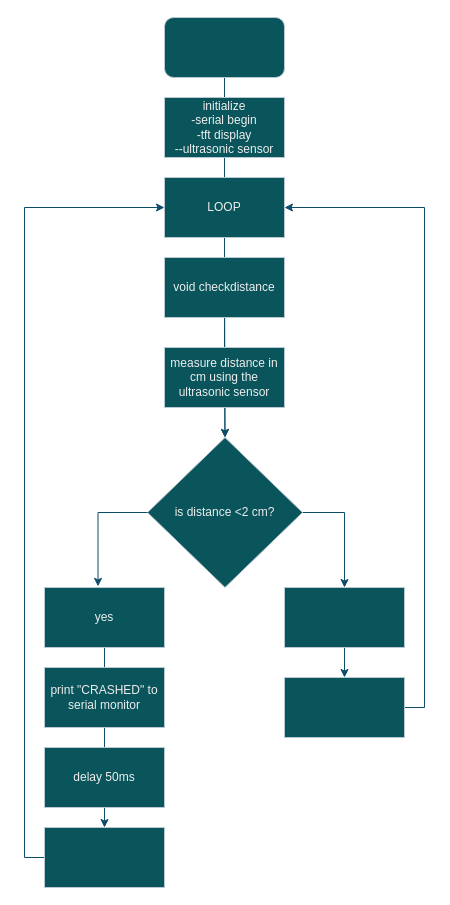
This 450x905 diagram has some shape labels left out. Here are the shapes that lost their labels. From the top down, the centre of each, then its label:
(x=224, y=47): start
(x=344, y=617): no
(x=344, y=707): display "WAITING FOR CRASH..." on tft
(x=104, y=857): display "CRASHED" on tft
